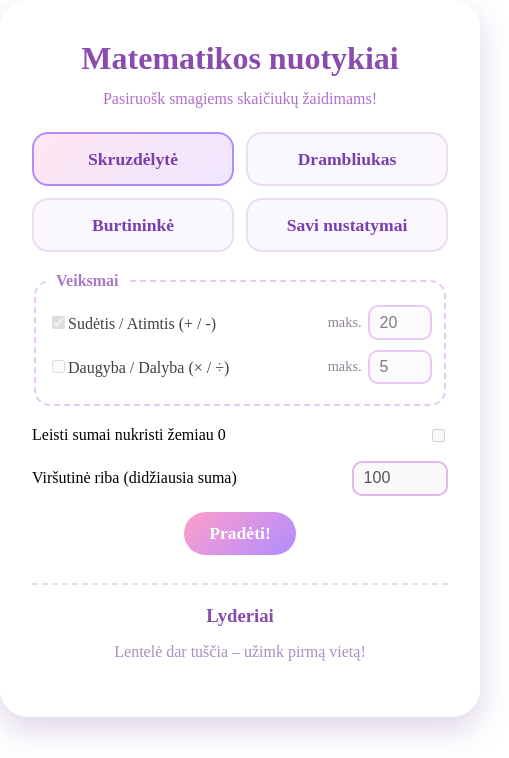
SettingsScreen leaderboard panel › explains that custom settings have no leaderboard
The width and height of the screenshot is (509, 758).
Click the radio button labelled "Savi nustatymai" at (347,225), box [246,198,448,252]
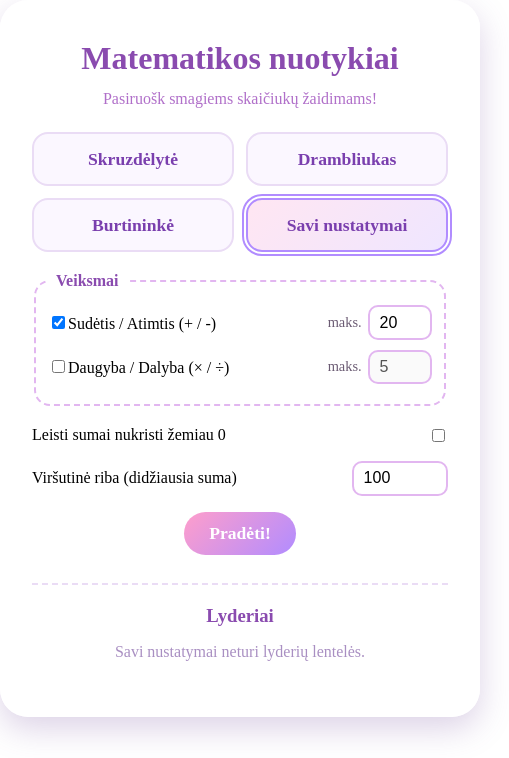
Result: the text "Savi nustatymai neturi lyderių lentelės." is shown at [115,643,365,660]
